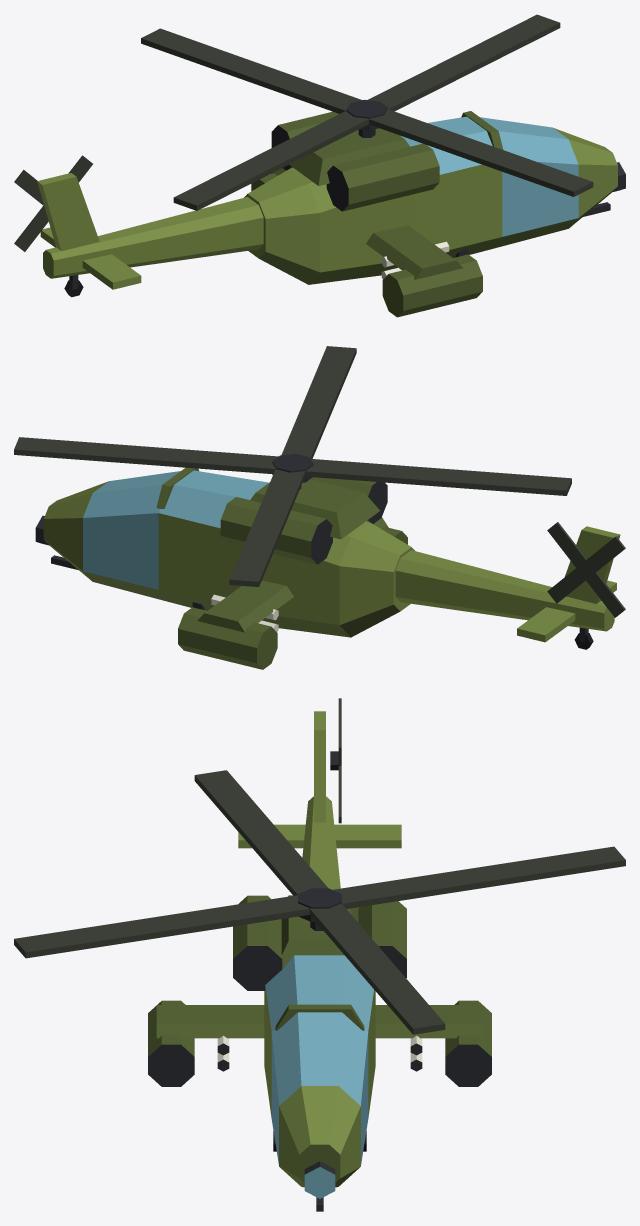
Rendered from heli_attack.glb.
The picture shows the model from 3 angles, top to bottom: view 1: azimuth 30°, elevation 25°; view 2: azimuth 150°, elevation 25°; view 3: azimuth 270°, elevation 25°; orthographic projection. The views are drawn at different scales.
Visible parts, largest first — view 1: Body, Rotor, TailRotor; view 2: Body, Rotor, TailRotor; view 3: Body, Rotor.
Boxes of the visible parts, x1,y1,x2,y2 form: Body: (37,111,625,317); Rotor: (141,14,593,210); TailRotor: (14,155,92,251); Body: (35,467,620,669); Rotor: (14,346,571,586); TailRotor: (547,522,625,617); Body: (148,711,491,1211); Rotor: (14,770,625,1034).
Bounding box in the file's own units: 1.05 × 0.3309 × 0.8239.
